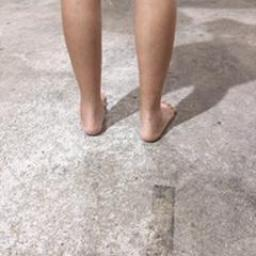Back View -Both Feet-: (73, 75, 178, 147)
